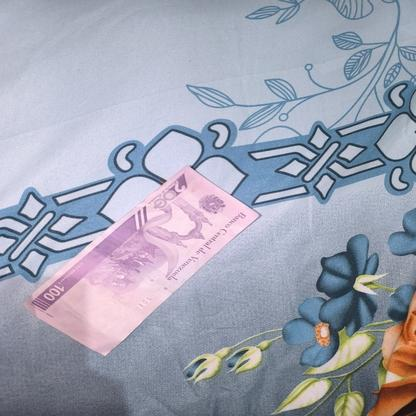one_hundred-back-vef: (22, 162, 262, 357)
